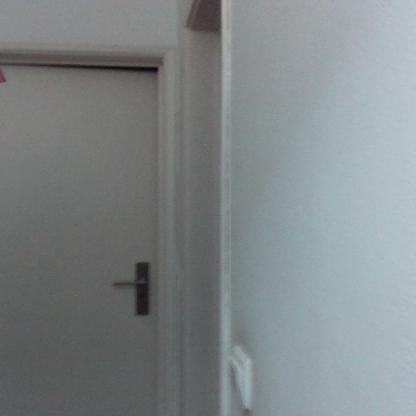door: (0, 62, 162, 415), (103, 279, 150, 290)
